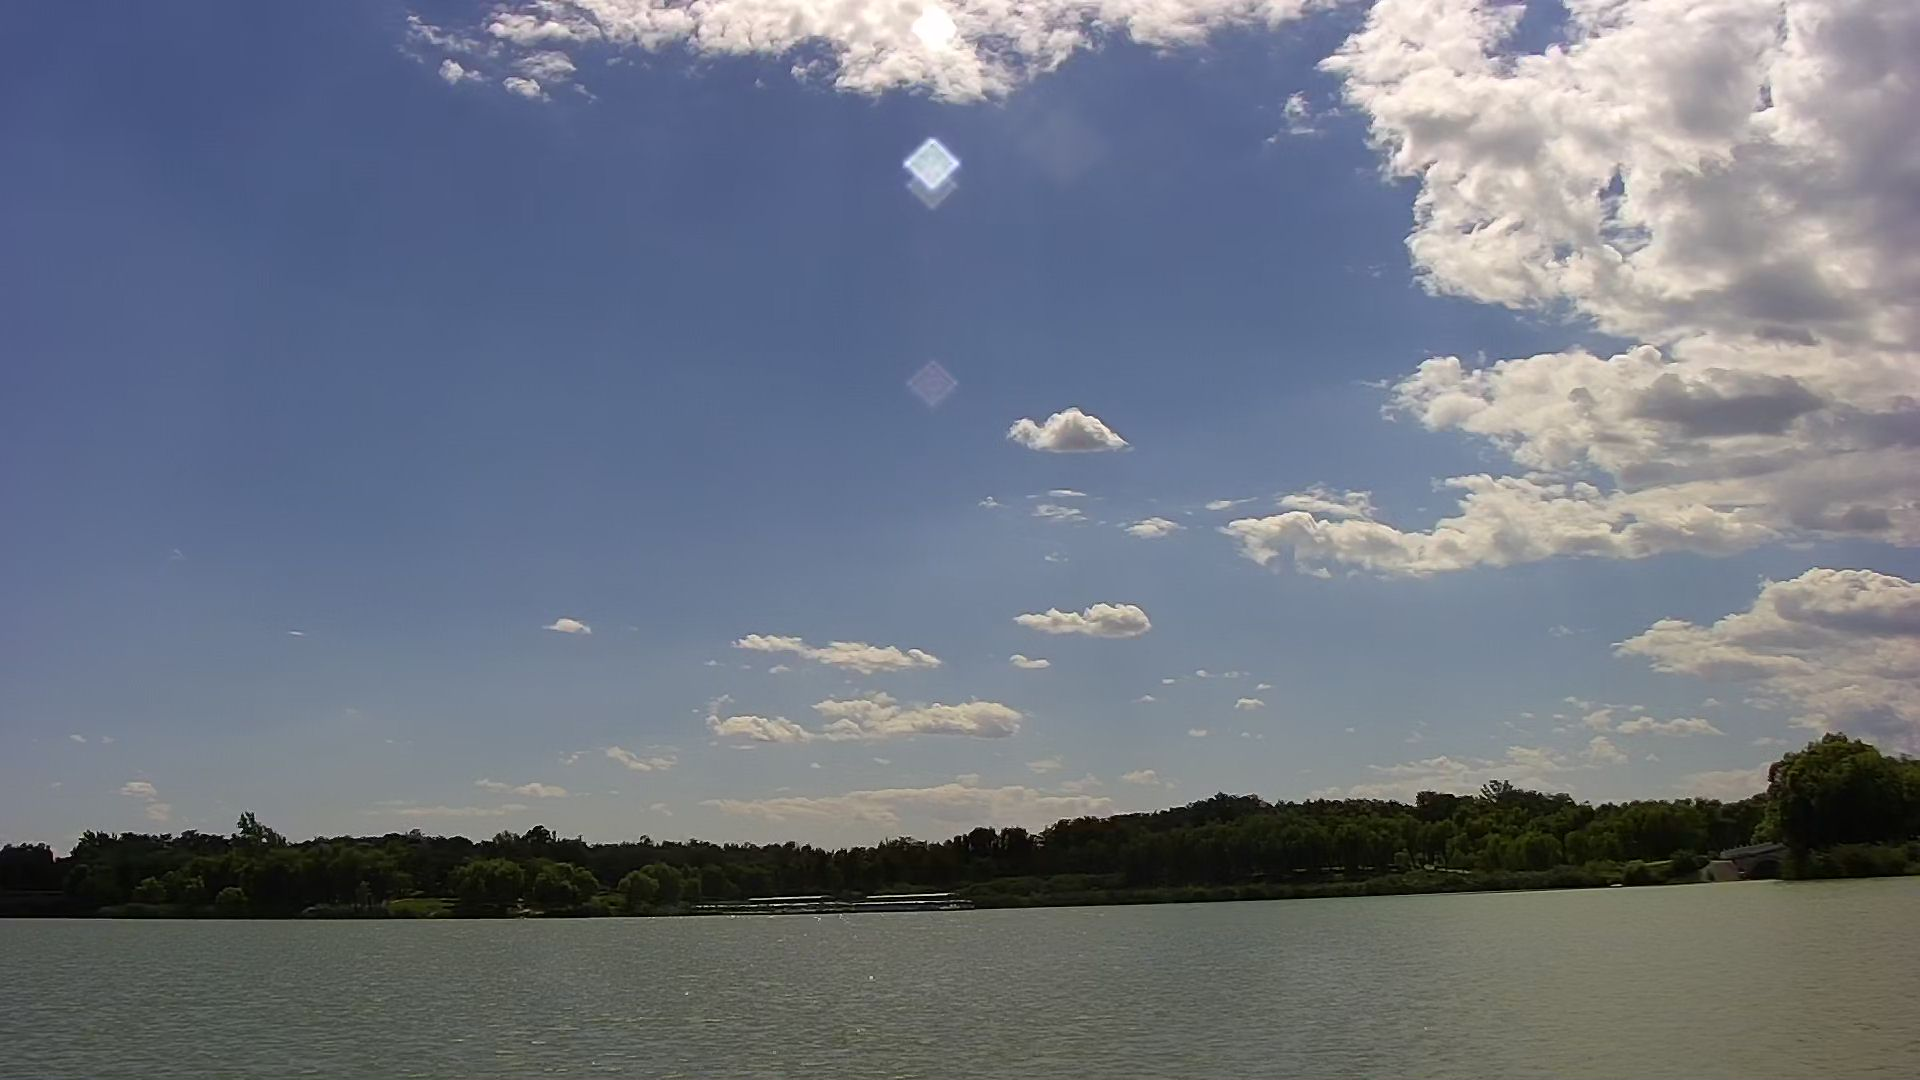harbor: (725, 895, 961, 915)
